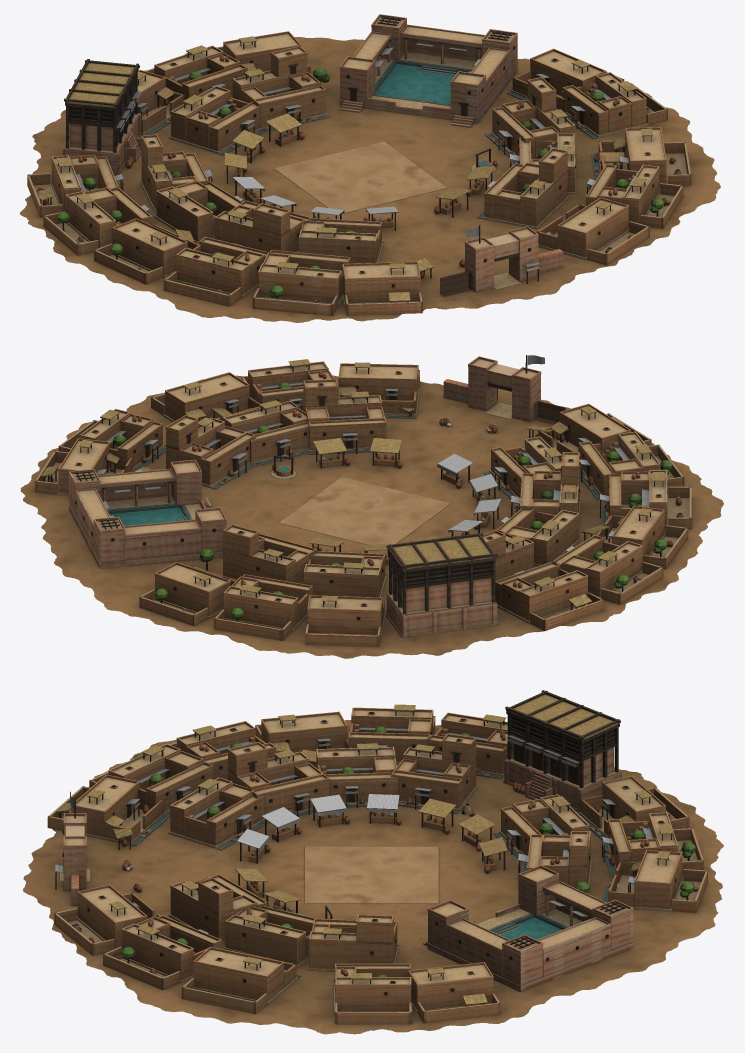
File: bronze-town-big-a-indic.glb
3 views of the same model, one above another, from view 1: azimuth 30°, elevation 25°; view 2: azimuth 150°, elevation 25°; view 3: azimuth 270°, elevation 25° (orthographic). The views are drawn at different scales.
Visible parts, largest first — view 1: LOD0; view 2: LOD0; view 3: LOD0.
Part boxes in pixels (<box>): LOD0: <box>19,14,720,322</box>; LOD0: <box>20,355,723,658</box>; LOD0: <box>23,690,723,1034</box>.
Size of what is drawn, in the model's own units: 7.93 by 0.892 by 7.49.
Materials: 3 (3 with a texture image).
